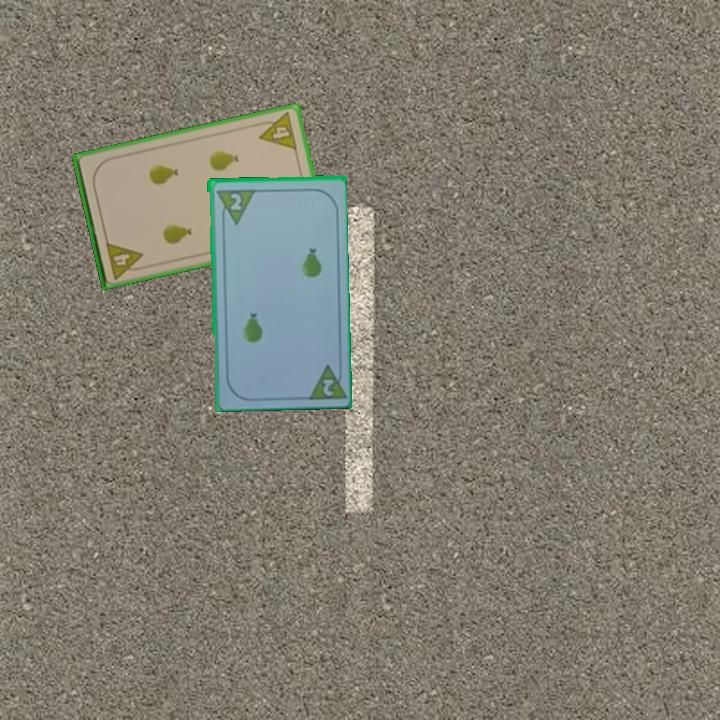2p: (302, 359, 347, 401), (212, 185, 256, 227)
4p: (253, 109, 300, 153), (102, 238, 148, 282)
